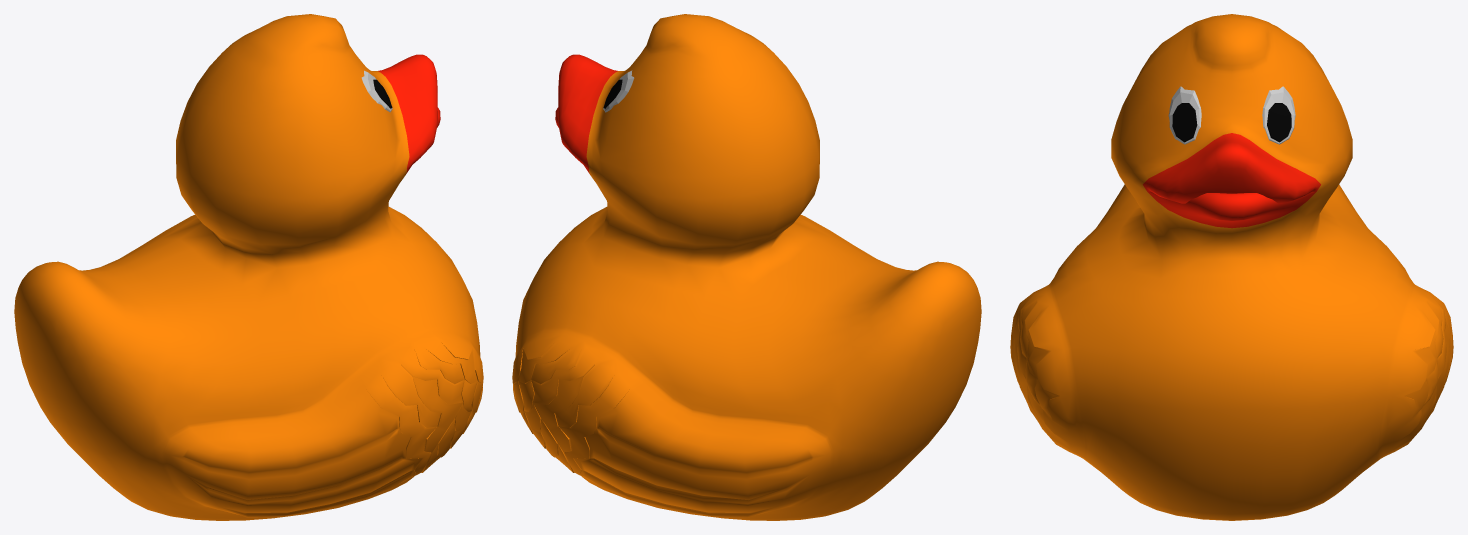
The model's file is rubber_duck.fbx.
3 views of the same model, side by side, from view 1: azimuth 30°, elevation 25°; view 2: azimuth 150°, elevation 25°; view 3: azimuth 270°, elevation 25° (orthographic). The views are drawn at different scales.
Visible parts, largest first — view 1: Rubber Duck; view 2: Rubber Duck; view 3: Rubber Duck.
Part boxes in pixels (box(x1,y1,x2,y2)): Rubber Duck: box(14, 14, 483, 520); Rubber Duck: box(512, 14, 981, 520); Rubber Duck: box(1010, 14, 1453, 520).
Bounding box in the file's own units: 222 × 225 × 200.
